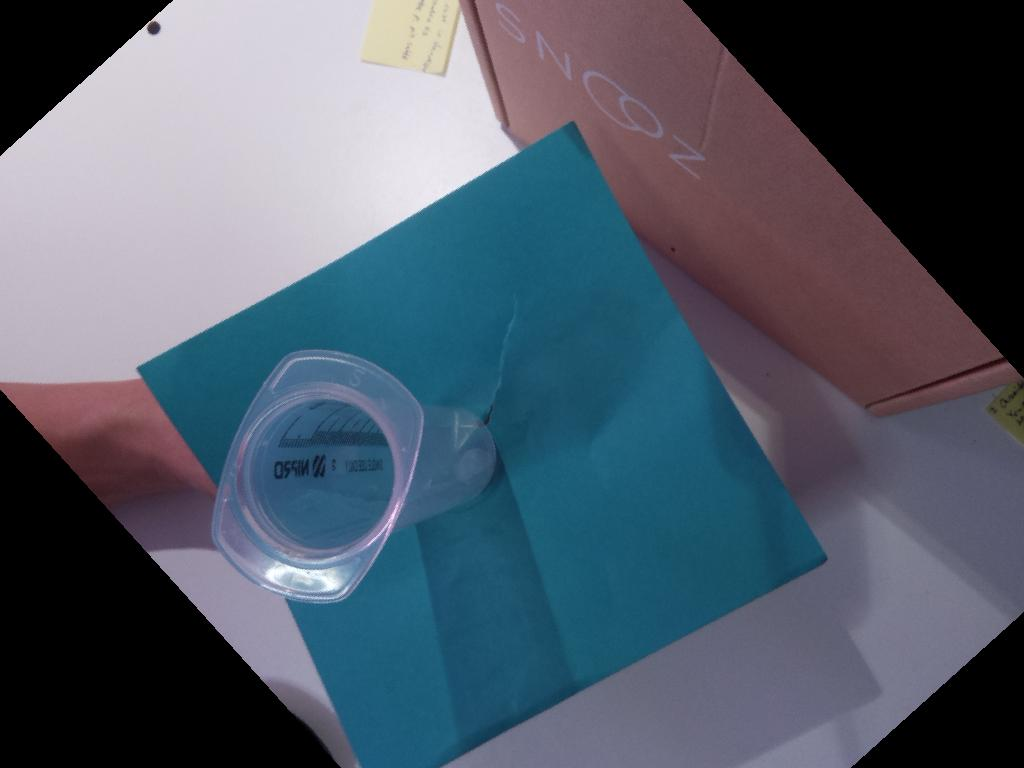clean: (210, 347, 426, 605)
